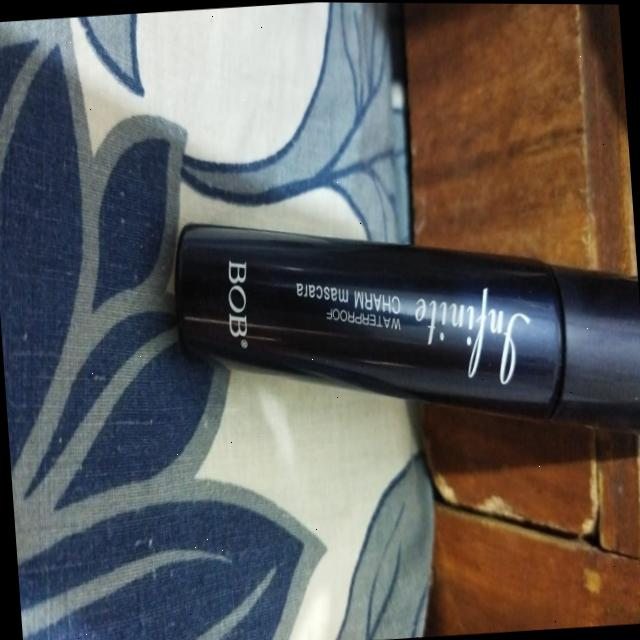mascara: (148, 163, 640, 484)
